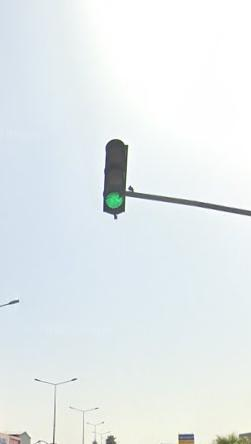greenlight: (105, 139, 128, 217)
